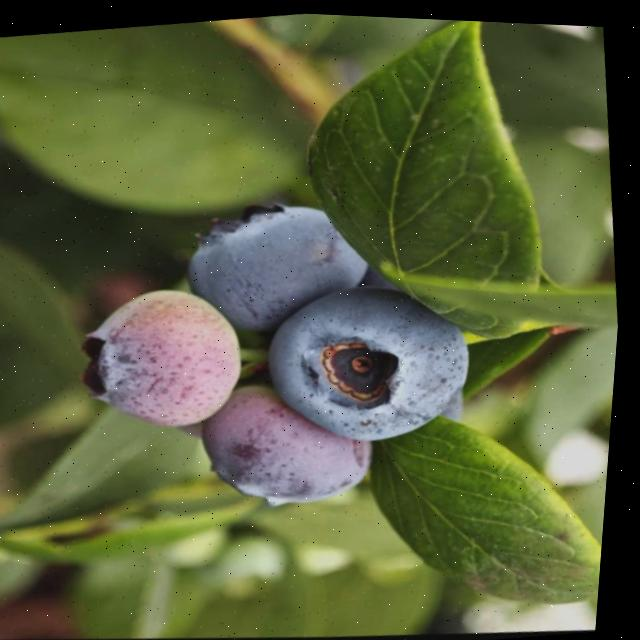RipeBlueBerry: (254, 263, 493, 465), (170, 185, 388, 356)
Semi-RipeBlueBerry: (69, 275, 263, 449), (193, 369, 392, 527)
